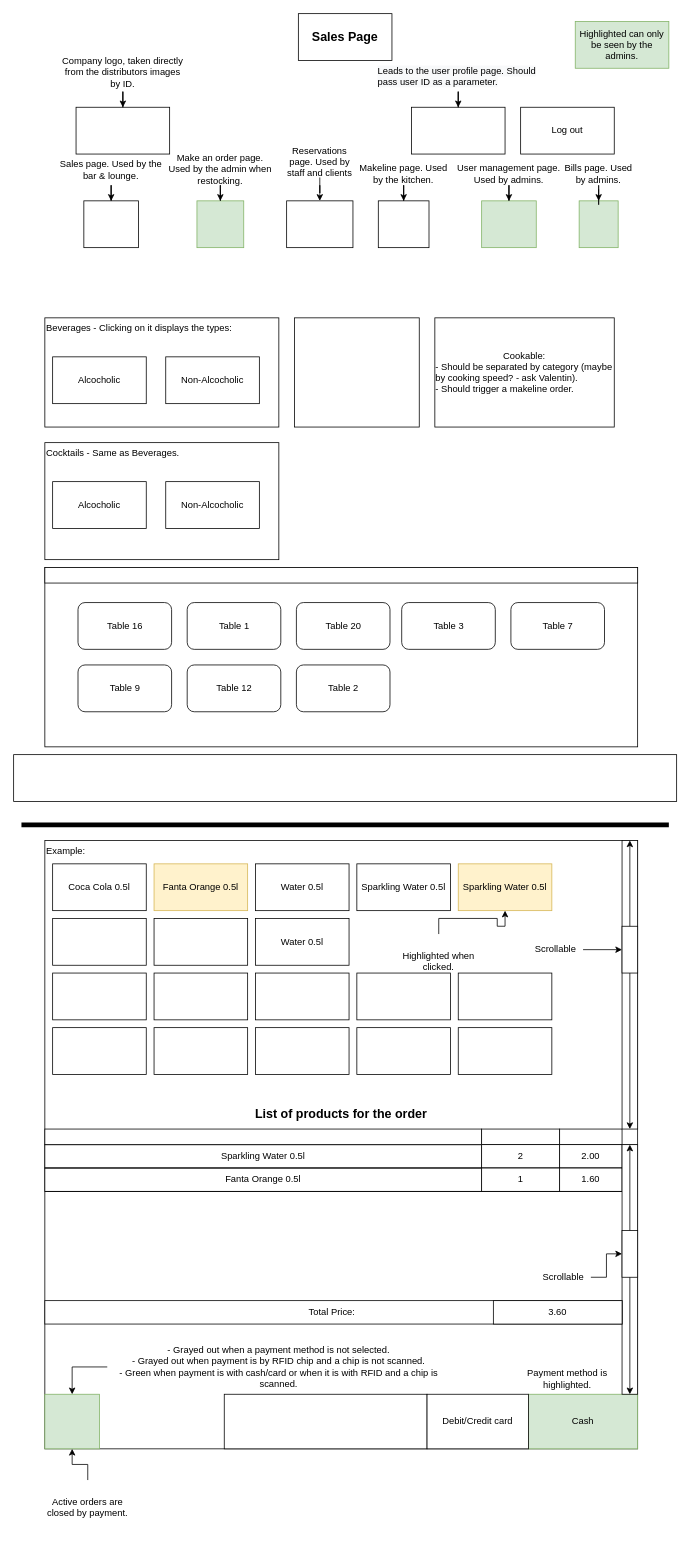
Image size: 690x1548. Some labels were removed from this diagram. The shapes that lost their labels are listed below. From the top down, each one's centre as x and y in pixels, then its label:
At (x=122, y=130): "Logo".
At (x=458, y=130): "Profile".
At (x=110, y=224): "Sell".
At (x=220, y=224): "Make an Order".
At (x=319, y=224): "Reservations".
At (x=403, y=224): "Makeline".
At (x=508, y=224): "Users".
At (x=598, y=224): "Bills".
At (x=356, y=372): "Snacks - should directly display all products of this type.".
At (x=341, y=575): "List of active orders".
At (x=345, y=777): "Footer. Telephone number, email, Facebook page. Trademark. Language change.".
At (x=263, y=1136): "Product".
At (x=520, y=1136): "Quantity".
At (x=590, y=1136): "Price".
At (x=71, y=1421): "OK button".
At (x=325, y=1421): "RFID - GRAY by default - GREEN when a chip is scanned".
